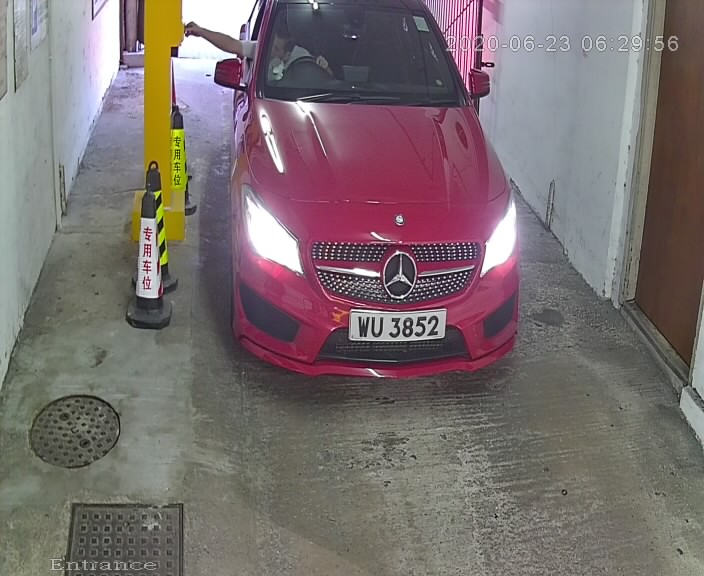privatecar: (194, 1, 541, 394)
